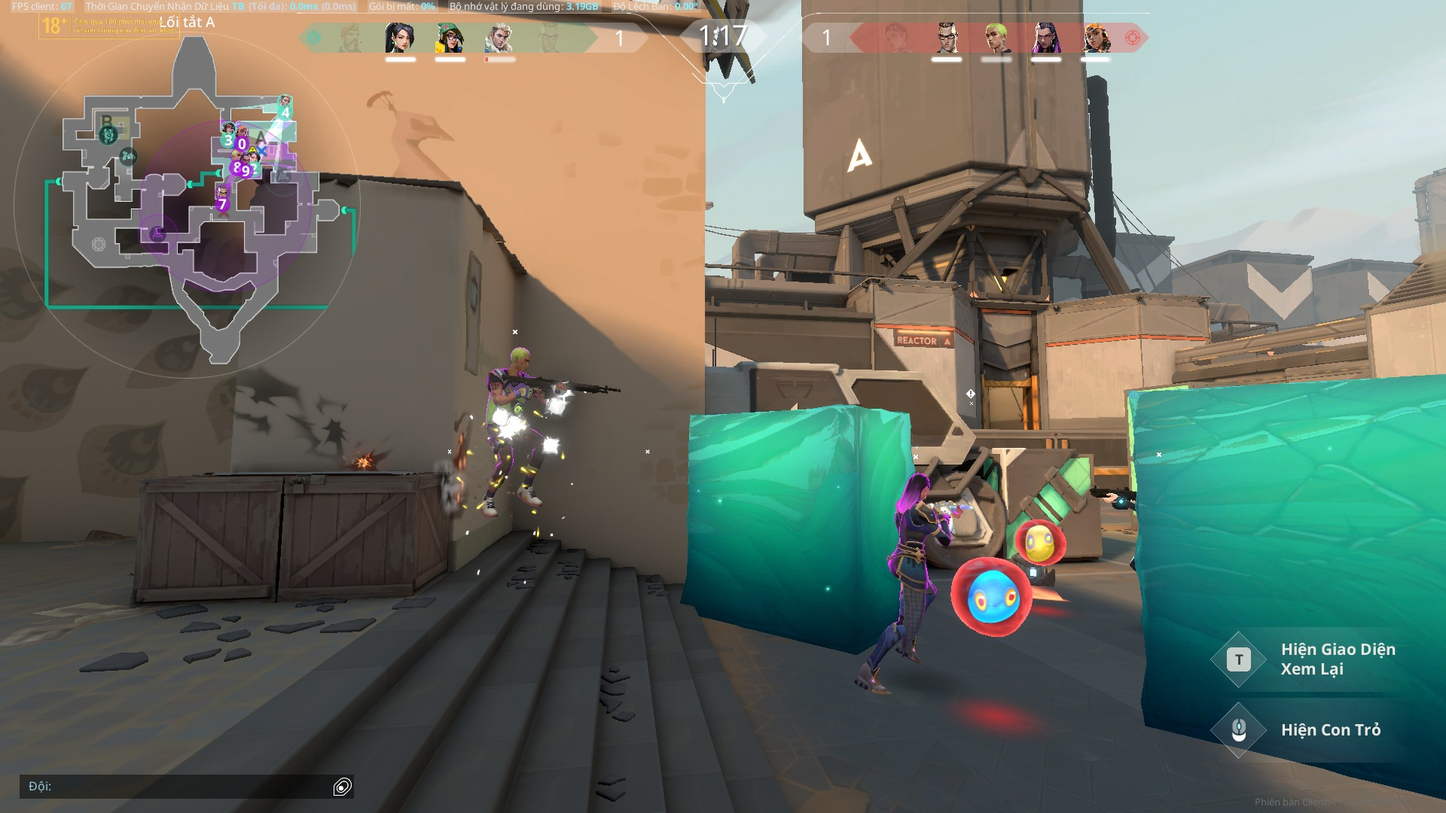body: (486, 367, 534, 419), (897, 497, 933, 544)
head: (908, 472, 930, 499), (508, 346, 529, 373)
